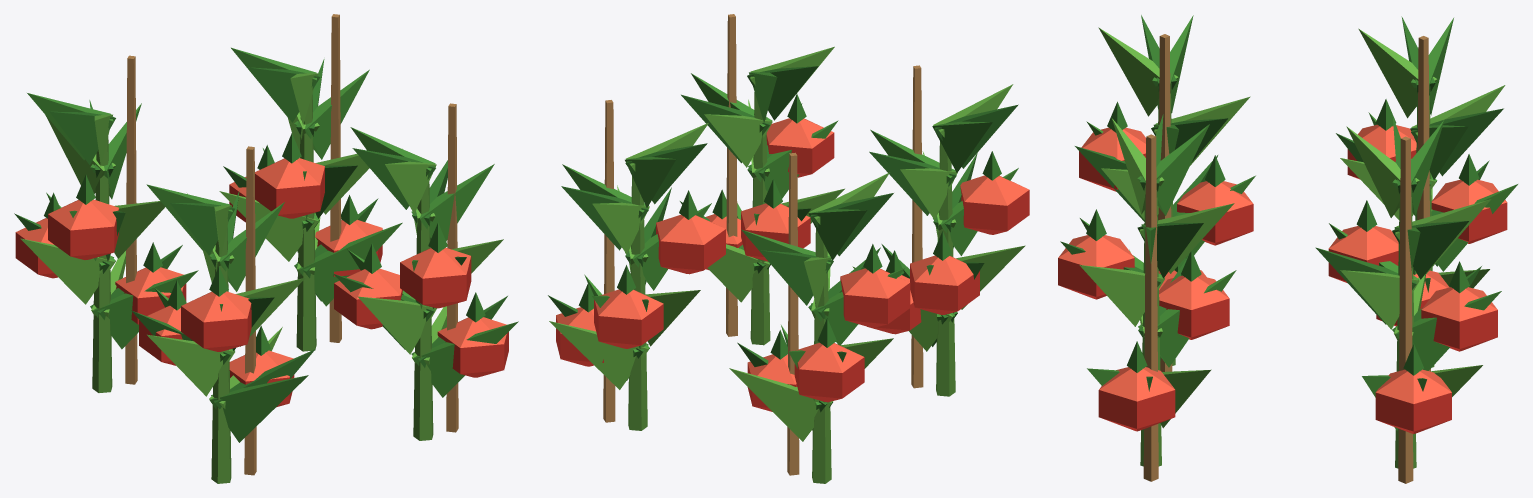
The model's file is tomato-4.glb.
3 renders of one model, left to right at view 1: azimuth 30°, elevation 25°; view 2: azimuth 150°, elevation 25°; view 3: azimuth 270°, elevation 25°, orthographic. The views are drawn at different scales.
Parts seen in each view (by area): view 1: tomato-4; view 2: tomato-4; view 3: tomato-4.
Boxes of the visible parts, x1,y1,x2,y2 form: tomato-4: (14,14,518,483); tomato-4: (548,14,1029,483); tomato-4: (1058,15,1517,483).
Bounding box in the file's own units: 0.6958 × 0.6 × 0.732.
1 material, 1 textured.
